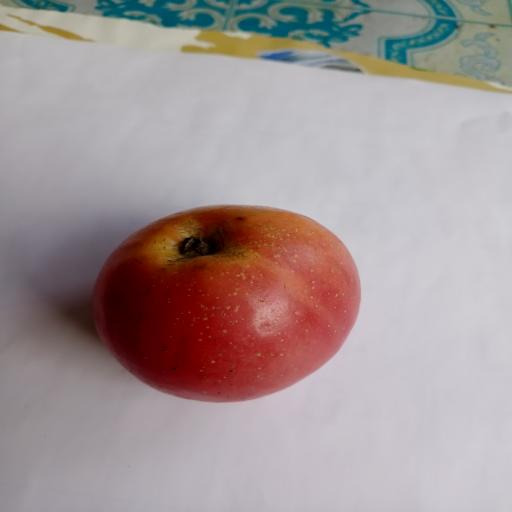apple-ripe: (84, 191, 370, 410)
